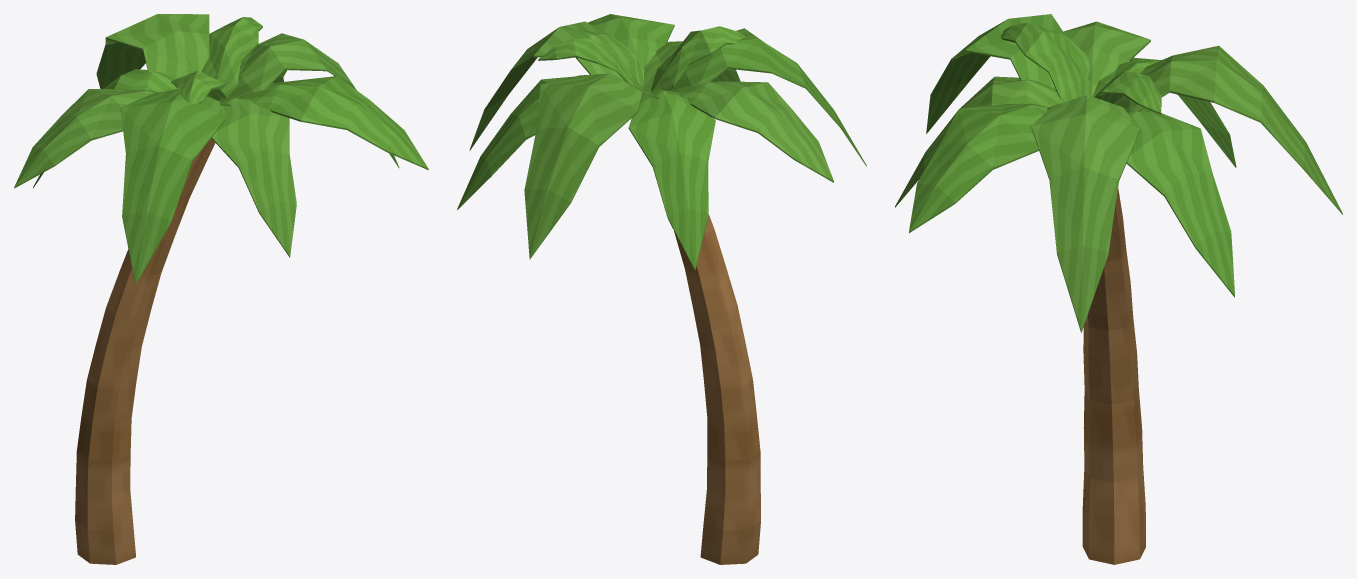
File: palm.glb
3 renders of one model, left to right at view 1: azimuth 30°, elevation 25°; view 2: azimuth 150°, elevation 25°; view 3: azimuth 270°, elevation 25°, orthographic. The views are drawn at different scales.
Parts seen in each view (by area): view 1: beach_palm; view 2: beach_palm; view 3: beach_palm.
Part boxes in pixels (x1,y1,x2,y2): beach_palm: (14, 14, 428, 564); beach_palm: (457, 14, 866, 564); beach_palm: (895, 14, 1342, 564).
Bounding box in the file's own units: 4.8 × 6 × 4.4.
1 material, 1 textured.
